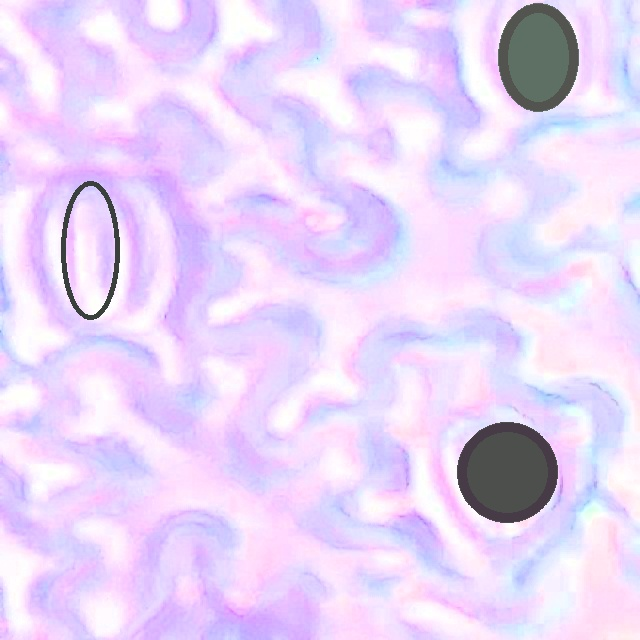close: (456, 422, 557, 522), (498, 4, 579, 111), (61, 180, 118, 321)
